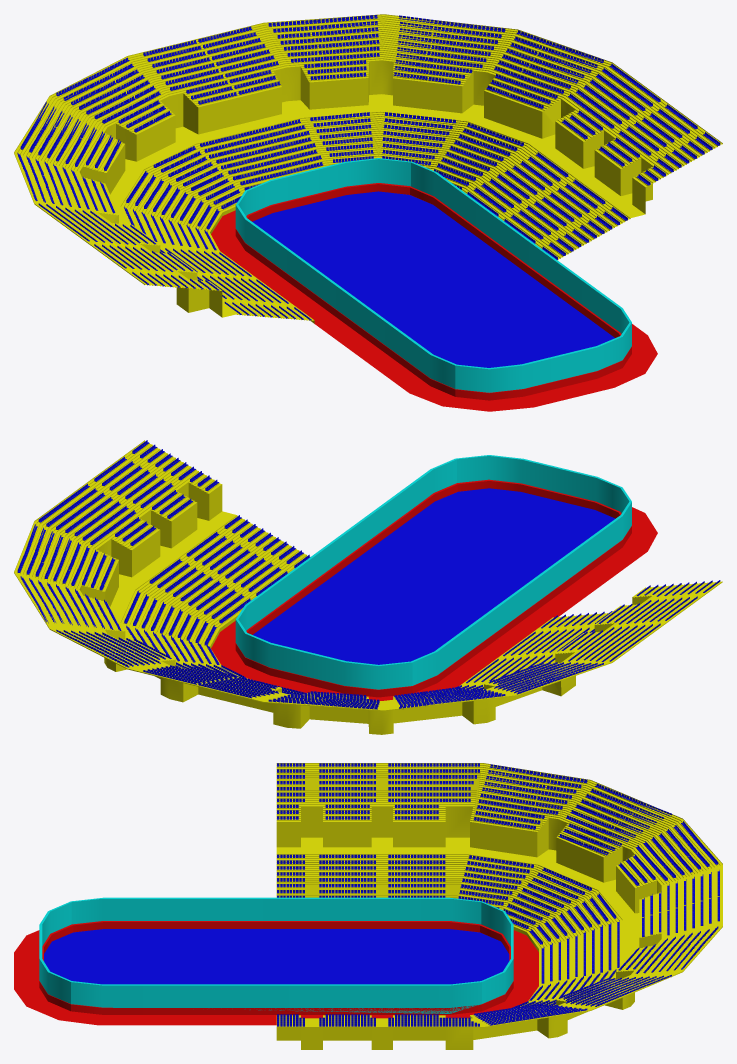
File: SM_Pole.fbx
3 renders of one model, top to bottom at view 1: azimuth 30°, elevation 25°; view 2: azimuth 150°, elevation 25°; view 3: azimuth 270°, elevation 25°, orthographic. The views are drawn at different scales.
Parts seen in each view (by area): view 1: SM_Stand, SM_Seat, SM_Field, SM_Glass, SM_Bort; view 2: SM_Stand, SM_Field, SM_Seat, SM_Glass, SM_Bort; view 3: SM_Stand, SM_Seat, SM_Field, SM_Glass, SM_Bort.
Boxes of the visible parts, <box> form: SM_Stand: <box>14,14,722,323</box>; SM_Seat: <box>17,15,720,320</box>; SM_Field: <box>252,191,614,367</box>; SM_Glass: <box>235,158,631,392</box>; SM_Bort: <box>211,183,657,411</box>; SM_Stand: <box>14,440,722,734</box>; SM_Field: <box>253,488,615,664</box>; SM_Seat: <box>17,440,720,709</box>; SM_Glass: <box>235,455,631,689</box>; SM_Bort: <box>211,479,657,700</box>; SM_Stand: <box>276,763,722,1049</box>; SM_Seat: <box>277,763,719,1026</box>; SM_Field: <box>44,929,509,984</box>; SM_Glass: <box>39,897,513,1013</box>; SM_Bort: <box>14,921,538,1025</box>.
Bounding box in the file's own units: 8181 × 1109 × 9280.
